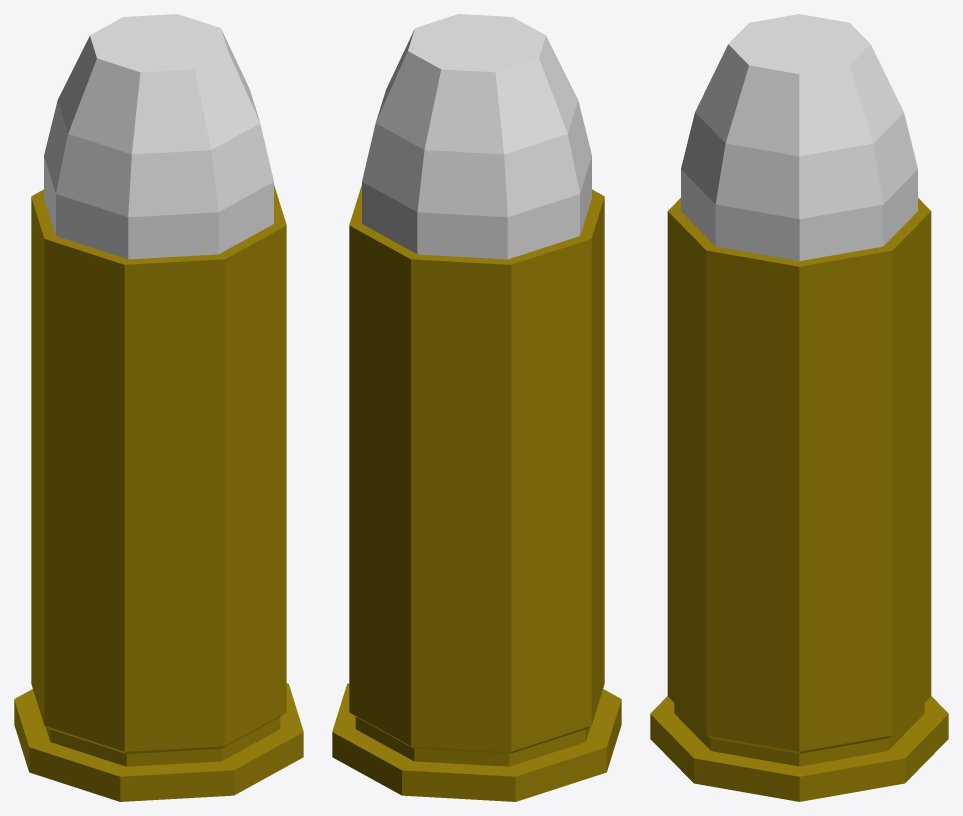
File: Bullet.fbx
The picture shows the model from 3 angles, left to right: view 1: azimuth 30°, elevation 25°; view 2: azimuth 150°, elevation 25°; view 3: azimuth 270°, elevation 25°; orthographic projection.
Parts seen in each view (by area): view 1: Cylinder.007; view 2: Cylinder.007; view 3: Cylinder.007.
Part boxes in pixels (x1,y1,x2,y2): Cylinder.007: (14,14,303,801); Cylinder.007: (332,14,621,801); Cylinder.007: (650,14,948,801).
Size of the model in its own units: 21.62 by 55.51 by 21.62.
